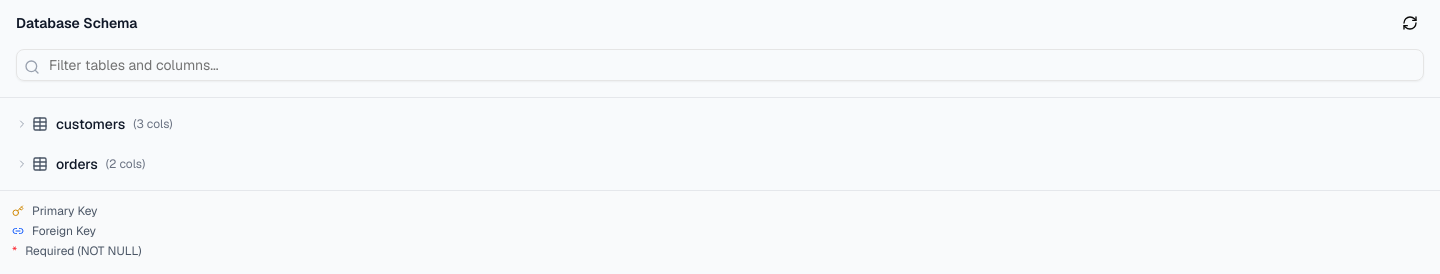
it: SchemaBrowser › filters tables and columns based on search term
Check: the text "customers" is shown, box x1=56 y1=114 x2=125 y2=134
Find search input and type 'email'
Step 1. Type "email" into the field with placeholder "Filter tables and columns..." → (720, 65), box x1=16 y1=49 x2=1424 y2=81
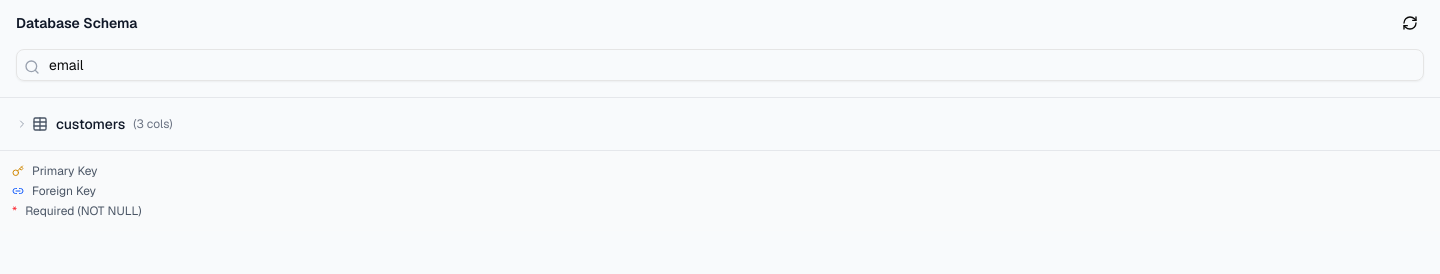
Check: the text "customers" is shown, box x1=56 y1=114 x2=125 y2=134
Check: the button "orders" is gone
